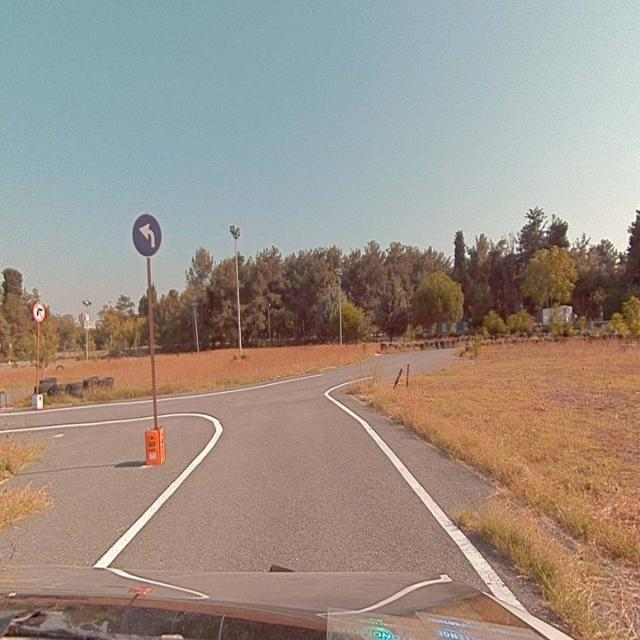sagadonulmez: (33, 301, 45, 321)
sol: (132, 214, 161, 255)
